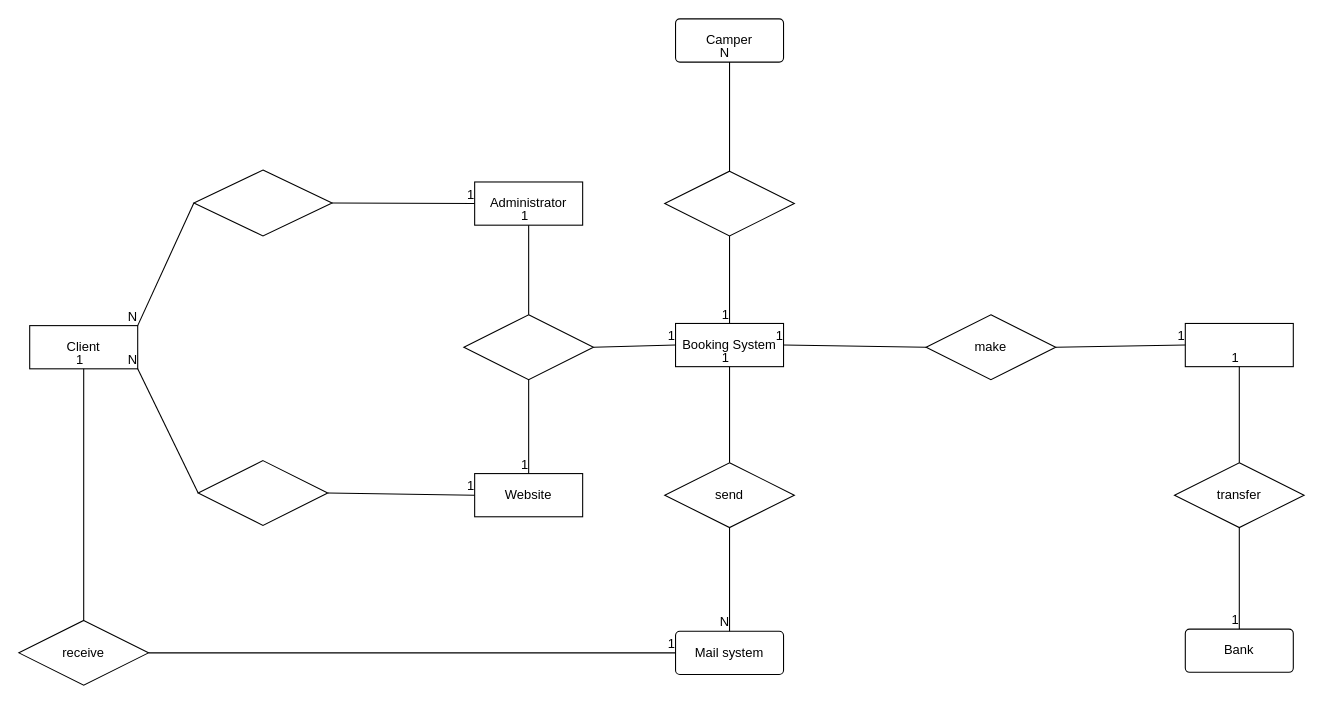
This 1323x704 diagram has some shape labels left out. The shapes that lost their labels are listed below. From the top down, each one's centre as x and y in pixels, then its label:
At (262,202): "Call".
At (729,203): "reserve".
At (528,347): "ordering".
At (1238,344): "Payment System".
At (262,492): "Gothough".
